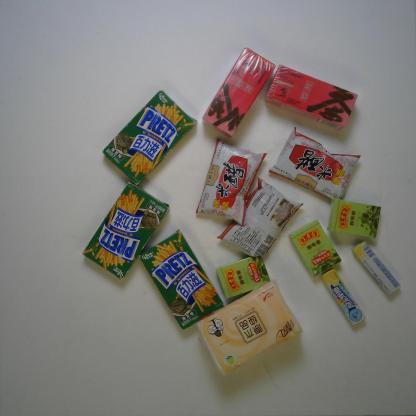Candy: (287, 218, 343, 279), (351, 238, 402, 297), (320, 266, 368, 327), (214, 255, 271, 300), (326, 197, 383, 240)
Dessert: (100, 87, 199, 188), (136, 228, 226, 332), (80, 179, 171, 281)
Instant Drink: (199, 44, 277, 140), (263, 62, 360, 132)
Seasoner: (215, 176, 306, 258), (266, 126, 362, 201), (194, 136, 269, 229)
Tissue: (194, 279, 306, 379)
